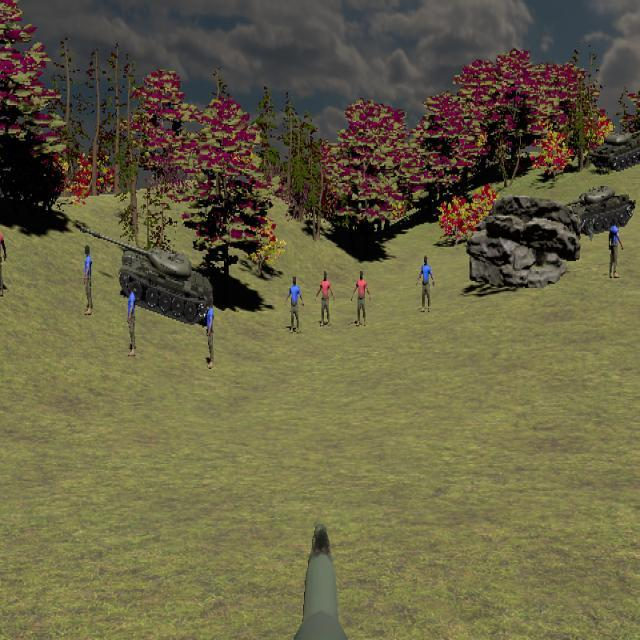Human: (351, 270, 371, 327), (315, 271, 335, 327), (416, 255, 435, 313), (285, 276, 304, 333), (609, 216, 623, 279), (83, 244, 93, 315), (0, 219, 7, 298)
Tank: (82, 225, 213, 325), (561, 184, 636, 235), (588, 131, 640, 171)
